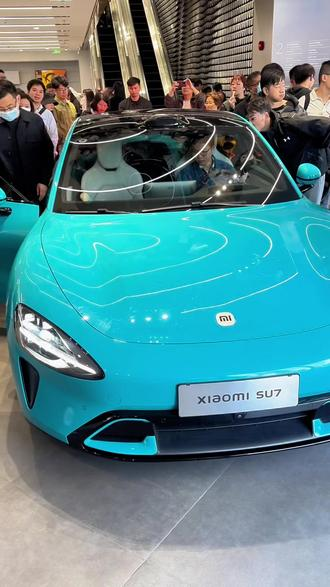su7: (20, 105, 330, 470)
